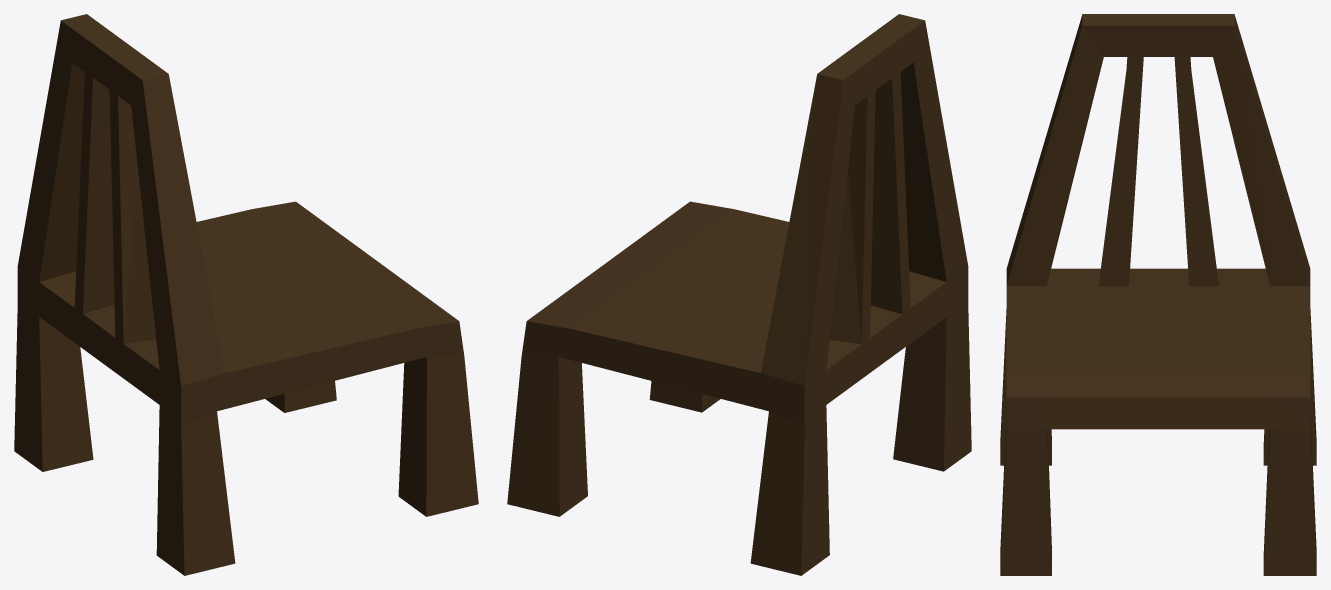
The model's file is chair.dae.
3 views of the same model, side by side, from view 1: azimuth 30°, elevation 25°; view 2: azimuth 150°, elevation 25°; view 3: azimuth 270°, elevation 25° (orthographic). The views are drawn at different scales.
Visible parts, largest first — view 1: Cube; view 2: Cube; view 3: Cube.
Part boxes in pixels (left/top/right/bottom): Cube: left=14, top=14, right=478, bottom=575; Cube: left=507, top=14, right=971, bottom=575; Cube: left=1000, top=14, right=1316, bottom=575.
Size of the model in its own units: 2.08 by 2.08 by 3.12.
